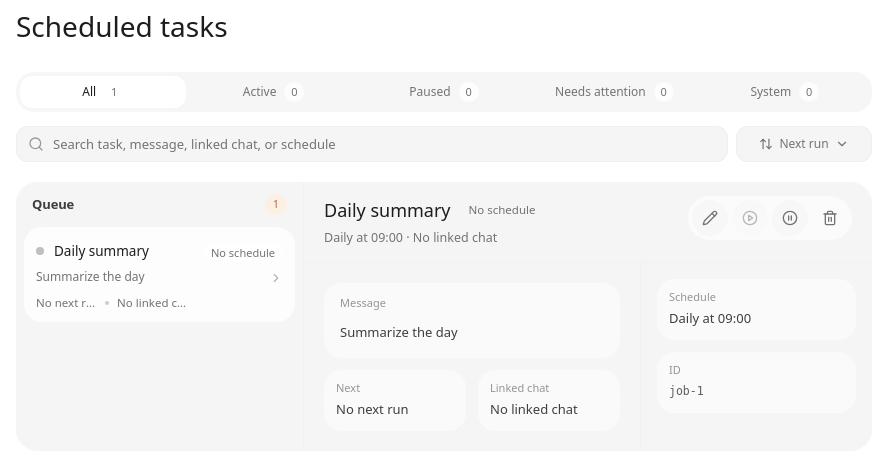
Test case: Settings system domains › offers a way out of an empty automations filter
Check: the heading "Daily summary" is shown, box [324, 196, 450, 224]
Click the button "Paused 0": (444, 92) [361, 76, 527, 108]
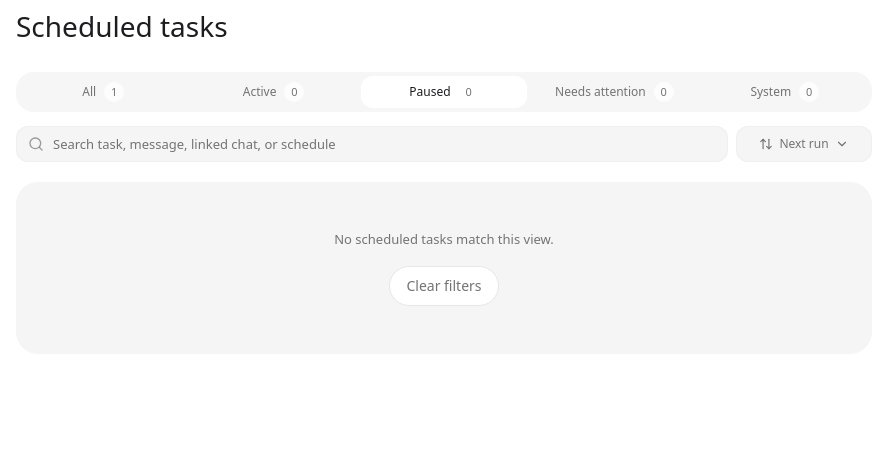
Check: the text "No scheduled tasks match this view." is shown, box [334, 230, 554, 248]
Click the button "Clear filters": (444, 286) [389, 266, 498, 306]
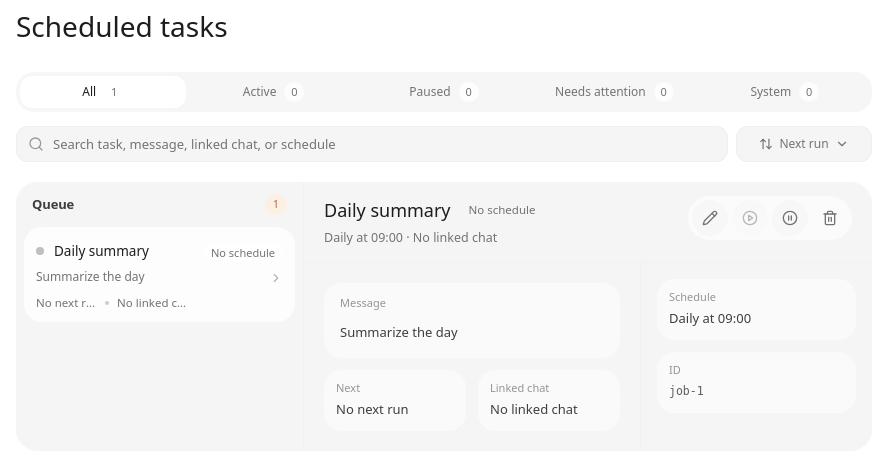
Check: the heading "Daily summary" is shown, box [324, 196, 450, 224]
